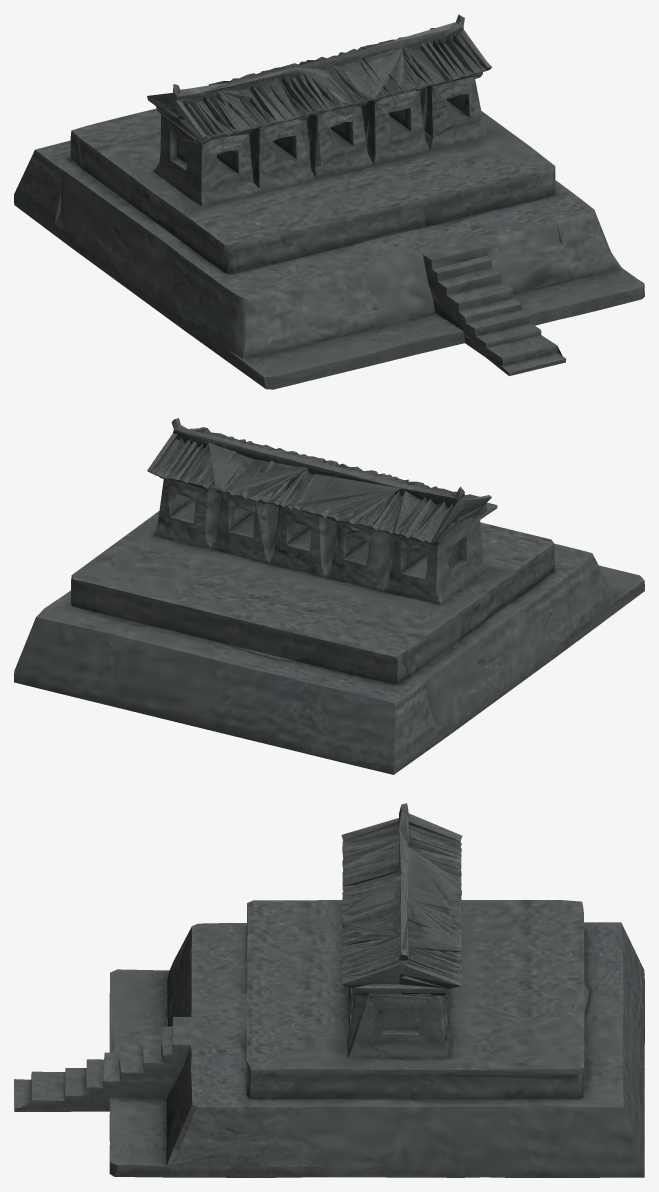
Rendered from wall_beacon.glb.
The picture shows the model from 3 angles, top to bottom: view 1: azimuth 30°, elevation 25°; view 2: azimuth 150°, elevation 25°; view 3: azimuth 270°, elevation 25°; orthographic projection. The views are drawn at different scales.
Bounding box in the file's own units: 1.4 × 0.6749 × 1.9.
Materials: 1 (1 with a texture image).
